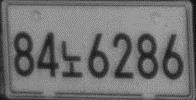2: (110, 31, 133, 80)
4: (36, 32, 59, 78)
6: (86, 32, 109, 79), (162, 33, 184, 81)
8: (12, 30, 35, 77), (136, 32, 158, 79)
노: (60, 39, 83, 78)
